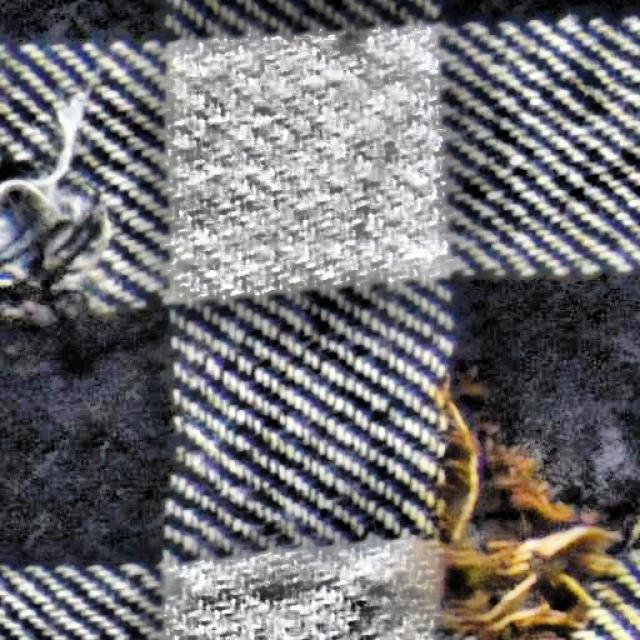cut: (0, 72, 128, 340)
stain: (418, 369, 621, 639)
